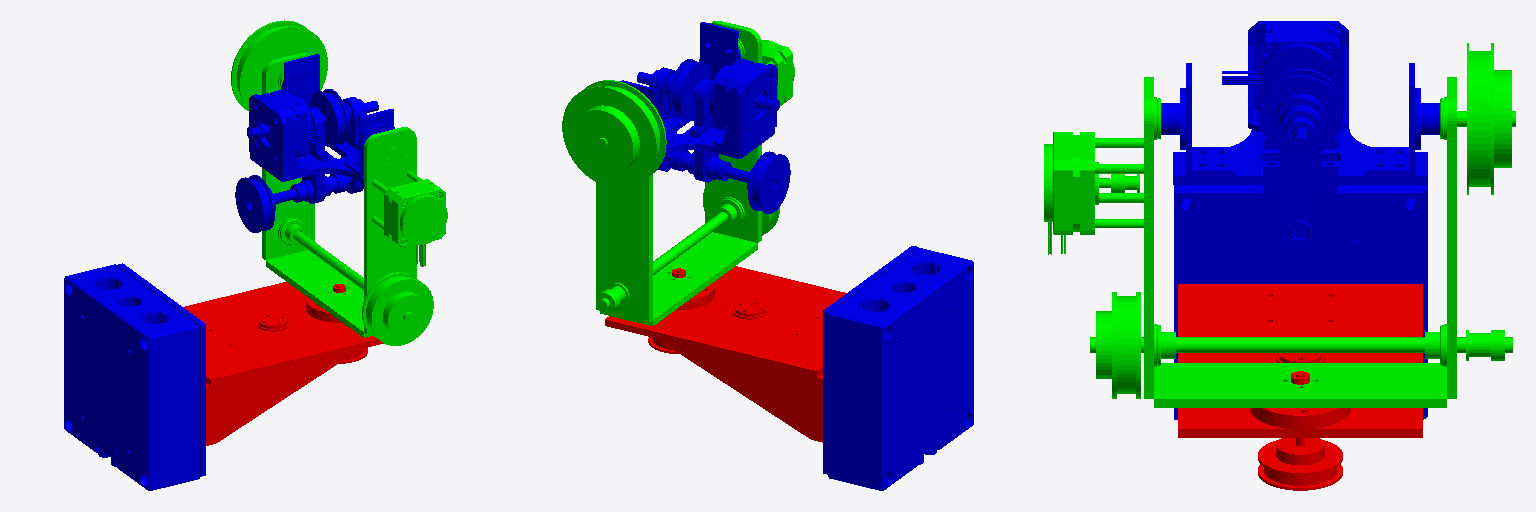
URDF robot description (Gantry_CAD):
<robot name="Gantry_CAD">

	<link name="world">
	</link>

	<joint name="base_joint" type="fixed">
		<!-- because of how the STL has been loaded in, have to rotate by 90 deg and translate slightly-->
		<origin xyz="-0.00316703 -0.01282036 -0.00465" rpy="1.570796327 0 1.570796327"/>
		<parent link="world"/>
		<child link="base_link"/>
	</joint>

	<!-- links the world to the corner (origin) of the gantry frame-->
    <link name="base_link">
        <visual>
	        <origin xyz="0 0 0" rpy="0 0 0"/>
            <geometry>
		        <mesh filename="GANTRY_FRAME.STL" scale="0.001 0.001 0.001"/>
            </geometry>
            <material name="grey">
                <color rgba="0.5 0.5 0.5 1"/> 
            </material>
        </visual>
        <collision>
            <geometry>
                <box size="1 1 1"/>
            </geometry>
        </collision>
        <inertial>
            <mass value="1.0"/> <!-- Mass in kilograms -->
            <inertia ixx="0.1" ixy="0.0" ixz="0.0" iyy="0.1" iyz="0.0" izz="0.1"/>
        </inertial>
    </link>

	<joint name="yaxis_joint" type="prismatic">
		
		<origin xyz="0.289 0.4695 -0.19" rpy="0 0 0"/>
		<parent link="base_link"/>
		<child link="yaxis_link"/>

		<axis xyz="0 0 1"/>
		<limit lower="0" upper="1.1" velocity="100" effort="100"/>		
	</joint>

	<link name="yaxis_link">
		<visual>
			<origin xyz="0 0 0" rpy="0 0 0"/>
			<geometry>
				<mesh filename="YAXIS.STL" scale="0.001 0.001 0.001"/>
			</geometry>
			<material name="red">
				<color rgba="1 0 0 1"/>
			</material>
		</visual>
		<collision>
			<geometry>
				<box size="1 1 1"/>
			</geometry>
		</collision>
		<inertial>
			<mass value="1.0"/>
			<!-- Mass in kilograms -->
			<inertia ixx="0.1" ixy="0.0" ixz="0.0" iyy="0.1" iyz="0.0" izz="0.1"/>
		</inertial>
	</link>

	<joint name="zaxis_joint" type="prismatic">

		<origin xyz="0.47 -0.416 -0.007" rpy="0 0 0"/>
		<parent link="yaxis_link"/>
		<child link="zaxis_link"/>

		<axis xyz="1 0 0"/>
		<limit lower="-0.34" upper="0.34" velocity="100" effort="100"/>
	</joint>

	<link name="zaxis_link">
		<visual>
			<origin xyz="0 0 0" rpy="0 0 0"/>
			<geometry>
				<mesh filename="ZAXIS.STL" scale="0.001 0.001 0.001"/>
			</geometry>
			<material name="green">
				<color rgba="0 1 0 1"/>
			</material>
		</visual>
		<collision>
			<geometry>
				<box size="1 1 1"/>
			</geometry>
		</collision>
		<inertial>
			<mass value="1.0"/>
			<!-- Mass in kilograms -->
			<inertia ixx="0.1" ixy="0.0" ixz="0.0" iyy="0.1" iyz="0.0" izz="0.1"/>
		</inertial>
	</link>

	<joint name="gimbal_interface_joint" type="prismatic">

		<origin xyz="0.004 0.4 0" rpy="0 0 0"/>
		<parent link="zaxis_link"/>
		<child link="gimbal_interface_link"/>

		<axis xyz="0 1 0"/>
		<limit lower="-0.39" upper="0.4" velocity="100" effort="100"/>
	</joint>

	<link name="gimbal_interface_link">
		<visual>
			<origin xyz="0 0 0" rpy="0 0 0"/>
			<geometry>
				<mesh filename="GIMBAL_INTERFACE.STL" scale="0.001 0.001 0.001"/>
			</geometry>
			<material name="blue">
				<color rgba="0 0 1 1"/>
			</material>
		</visual>
		<collision>
			<geometry>
				<box size="1 1 1"/>
			</geometry>
		</collision>
		<inertial>
			<mass value="1.0"/>
			<!-- Mass in kilograms -->
			<inertia ixx="0.1" ixy="0.0" ixz="0.0" iyy="0.1" iyz="0.0" izz="0.1"/>
		</inertial>
	</link>

	<joint name="yaw_axis_joint" type="fixed">
		<!-- left/right , up/down, forwards/backwards-->
		<origin xyz="-1.209 -0.692 1.451" rpy="0 1.570796327 0"/>
		<parent link="gimbal_interface_link"/>
		<child link="yaw_axis_link"/>

	</joint>

	<link name="yaw_axis_link">
		<visual>
			<origin xyz="0 0 0" rpy="0 0 0"/>
			<geometry>
				<mesh filename="YAWAXIS.STL" scale="0.001 0.001 0.001"/>
			</geometry>
			<material name="red">
			</material>
		</visual>
		<collision>
			<geometry>
				<box size="1 1 1"/>
			</geometry>
		</collision>
		<inertial>
			<mass value="1.0"/>
			<!-- Mass in kilograms -->
			<inertia ixx="0.1" ixy="0.0" ixz="0.0" iyy="0.1" iyz="0.0" izz="0.1"/>
		</inertial>
	</link>

	<joint name="pitch_axis_joint" type="revolute">
		<!-- left/right , up/down, forwards/backwards-->
		<origin xyz="0 0 0" rpy="0 0 0"/>
		<parent link="yaw_axis_link"/>
		<child link="pitch_axis_link"/>

		<axis xyz="0 1 0"/>
		<limit effort="100" velocity="2" lower="-1.570796327" upper="1.570796327"/>
	</joint>

	<link name="pitch_axis_link">
		<visual>
			<origin xyz="0 0 0" rpy="0 0 0"/>
			<geometry>
				<mesh filename="PITCHAXIS.STL" scale="0.001 0.001 0.001"/>
			</geometry>
			<material name="green">
			</material>
		</visual>
		<collision>
			<geometry>
				<box size="1 1 1"/>
			</geometry>
		</collision>
		<inertial>
			<mass value="1.0"/>
			<!-- Mass in kilograms -->
			<inertia ixx="0.1" ixy="0.0" ixz="0.0" iyy="0.1" iyz="0.0" izz="0.1"/>
		</inertial>
	</link>

	<joint name="roll_axis_joint" type="fixed">
		<!-- left/right , up/down, forwards/backwards-->
		<origin xyz="0 0 0" rpy="0 0 0"/>
		<parent link="pitch_axis_link"/>
		<child link="roll_axis_link"/>

	</joint>

	<link name="roll_axis_link">
		<visual>
			<origin xyz="0 0 0" rpy="0 0 0"/>
			<geometry>
				<mesh filename="ROLLAXIS.STL" scale="0.001 0.001 0.001"/>
			</geometry>
			<material name="blue">
			</material>
		</visual>
		<collision>
			<geometry>
				<box size="1 1 1"/>
			</geometry>
		</collision>
		<inertial>
			<mass value="1.0"/>
			<!-- Mass in kilograms -->
			<inertia ixx="0.1" ixy="0.0" ixz="0.0" iyy="0.1" iyz="0.0" izz="0.1"/>
		</inertial>
	</link>
</robot>

--- Facts derived from the render (not from the file) ---
Views: 3 orthographic renders of the robot side by side, from view 1: azimuth 30°, elevation 25°; view 2: azimuth 150°, elevation 25°; view 3: azimuth 270°, elevation 25°.
Model Gantry_CAD with 8 links and 7 joints (1 revolute, 3 prismatic, 3 fixed), rooted at world, posed all joints at 0.
Visible links, largest first — view 1: gimbal_interface_link, pitch_axis_link, yaw_axis_link, roll_axis_link; view 2: gimbal_interface_link, pitch_axis_link, yaw_axis_link, roll_axis_link; view 3: pitch_axis_link, roll_axis_link, yaw_axis_link, gimbal_interface_link.
Boxes of the visible links, bbox=[...] form: gimbal_interface_link: bbox=[64, 263, 205, 490]; pitch_axis_link: bbox=[231, 20, 447, 345]; yaw_axis_link: bbox=[183, 282, 383, 445]; roll_axis_link: bbox=[235, 54, 394, 232]; gimbal_interface_link: bbox=[823, 246, 973, 490]; pitch_axis_link: bbox=[562, 21, 794, 325]; yaw_axis_link: bbox=[605, 266, 846, 442]; roll_axis_link: bbox=[620, 22, 790, 213]; pitch_axis_link: bbox=[1044, 43, 1515, 407]; roll_axis_link: bbox=[1161, 21, 1439, 250]; yaw_axis_link: bbox=[1178, 284, 1422, 490]; gimbal_interface_link: bbox=[1174, 185, 1427, 419].
Bounding box of the posed robot: 0.2455 × 0.241 × 0.2832 m (x, y, z).
Meshes: 7 distinct files referenced, 4 mesh visuals loaded (4 binary STL); not drawn: 3 (reference not matched to a file when rendering).